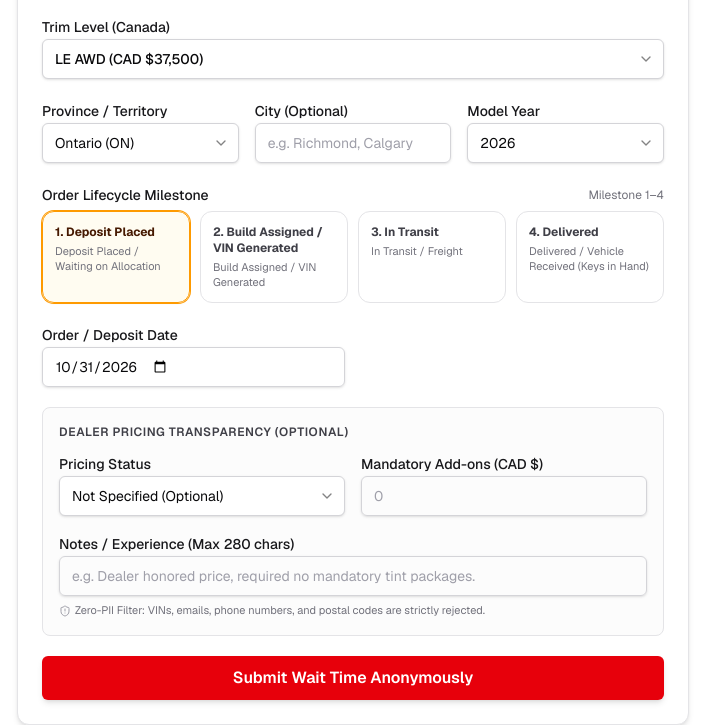
Test: SubmissionForm Component › displays error banner if API returns error response
(page scrolled)
Click the button "Submit Wait Time Anonymously": point(353, 678) [42,656,664,700]
(page scrolled)
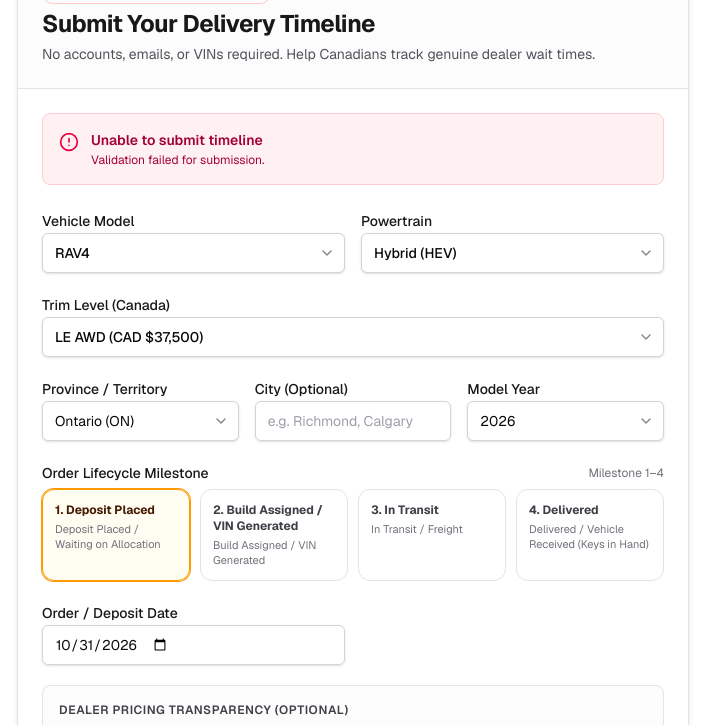
expect the text "Unable to submit timeline" is shown: met, box [91,130,264,150]
expect the text "Validation failed for submission." is shown: met, box [91,152,264,168]
